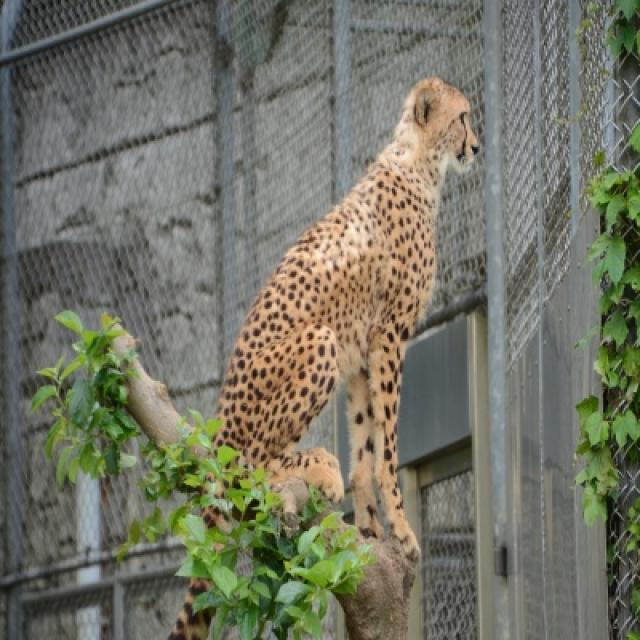Cheetah: (216, 77, 483, 584)
